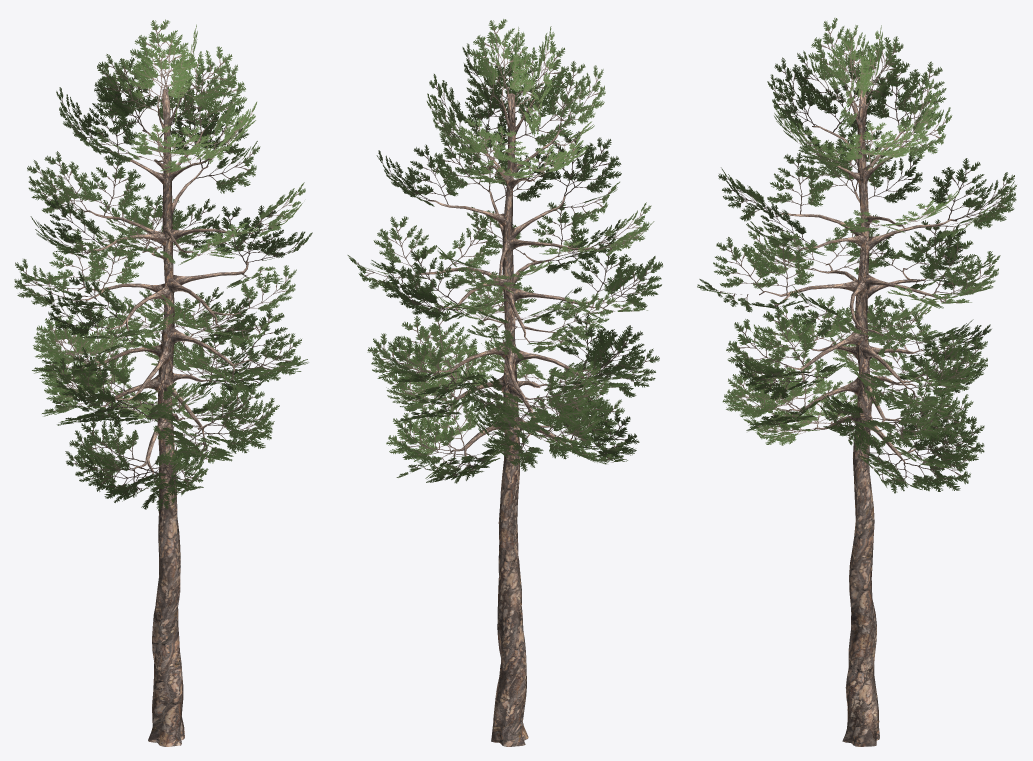
File: pine.glb
3 views of the same model, side by side, from view 1: azimuth 30°, elevation 25°; view 2: azimuth 150°, elevation 25°; view 3: azimuth 270°, elevation 25° (orthographic).
Parts seen in each view (by area): view 1: Tree_1_Tree_1Mat_0, Tree_0_Tree_0Mat_0; view 2: Tree_1_Tree_1Mat_0, Tree_0_Tree_0Mat_0; view 3: Tree_1_Tree_1Mat_0, Tree_0_Tree_0Mat_0.
Part boxes in pixels (left/top/right/bottom): Tree_1_Tree_1Mat_0: left=14, top=19, right=312, bottom=510; Tree_0_Tree_0Mat_0: left=77, top=88, right=253, bottom=746; Tree_1_Tree_1Mat_0: left=347, top=19, right=662, bottom=483; Tree_0_Tree_0Mat_0: left=411, top=88, right=604, bottom=746; Tree_1_Tree_1Mat_0: left=697, top=18, right=1016, bottom=493; Tree_0_Tree_0Mat_0: left=759, top=88, right=956, bottom=746.
Size of the model in its own units: 2.18 by 5.32 by 2.17.
2 materials, 2 textured.
